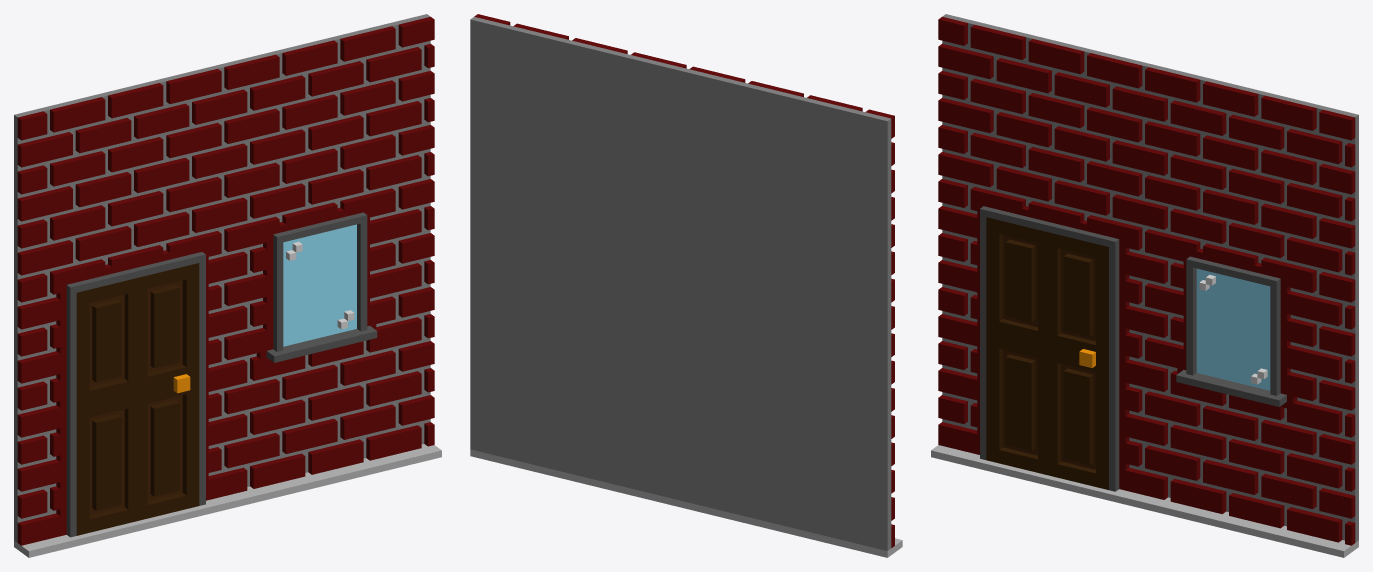
The model's file is house_wall.gltf.
The picture shows the model from 3 angles, left to right: view 1: azimuth 30°, elevation 25°; view 2: azimuth 150°, elevation 25°; view 3: azimuth 330°, elevation 25°; orthographic projection.
Parts seen in each view (by area): view 1: Layer.2; view 2: Layer.2; view 3: Layer.2.
Part boxes in pixels (x1=…): Layer.2: x1=14, y1=14, x2=441, y2=557; Layer.2: x1=470, y1=14, x2=902, y2=557; Layer.2: x1=931, y1=14, x2=1358, y2=557.
Size of the model in its own units: 64 by 64 by 4.
Materials: 1 (1 with a texture image).
